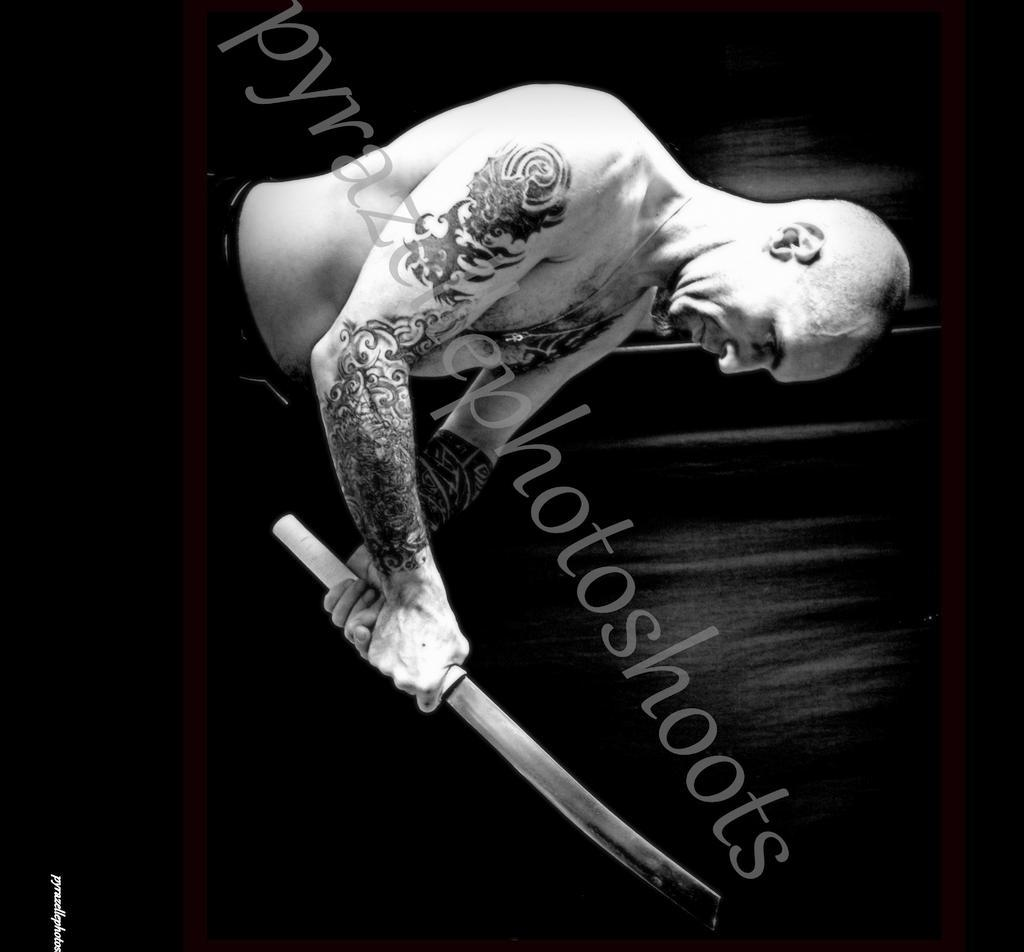melee: (262, 506, 741, 928)
